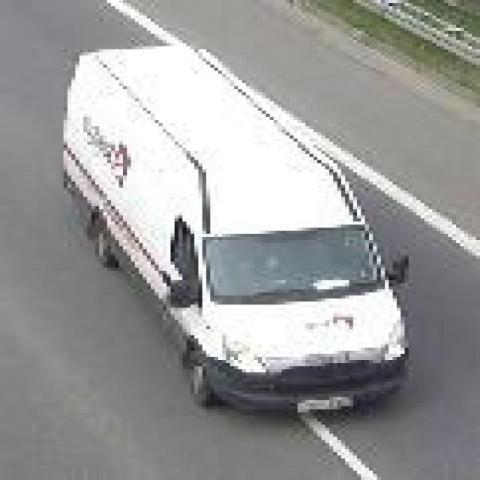van: (59, 50, 409, 416)
